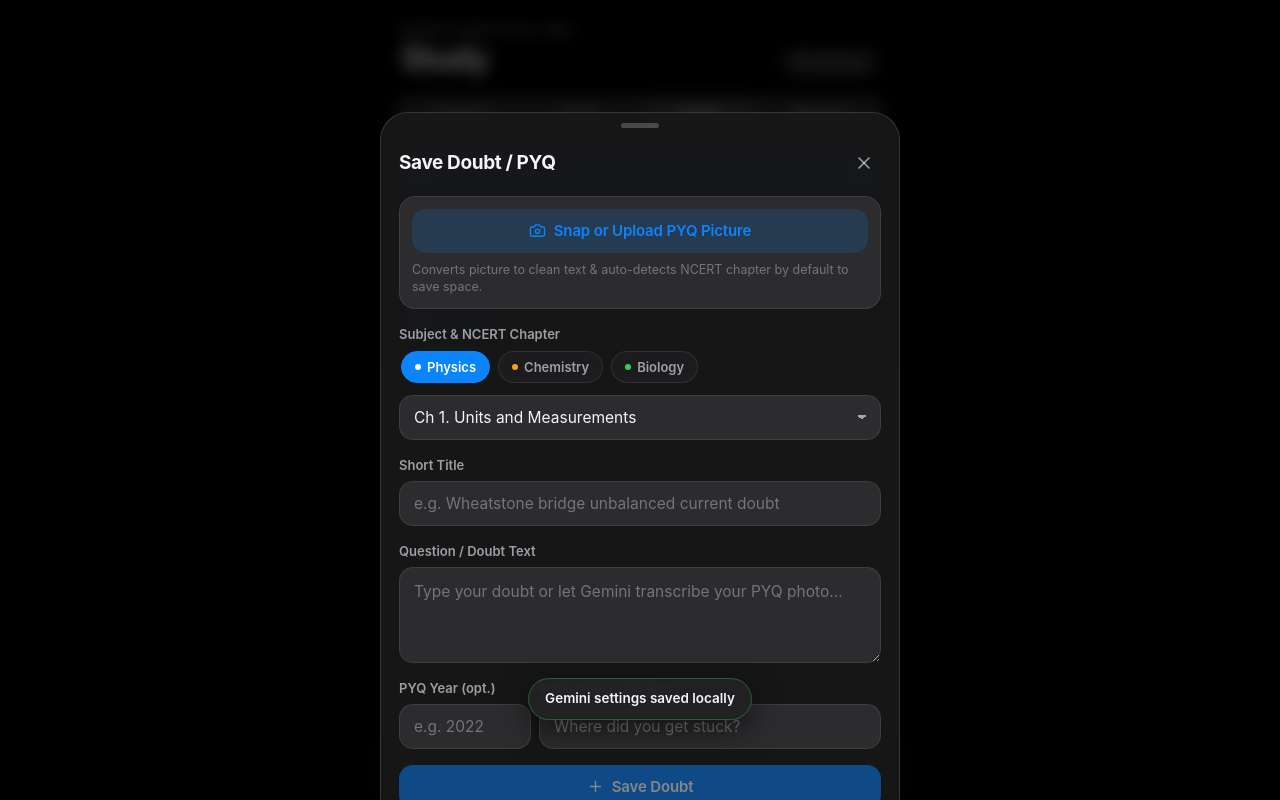
Test case: Study Hub, NCERT Chapters, PYQs & Doubts end-to-end flows › creates, reviews, explains with Gemini, and resolves a doubt in Study -> Doubts
Earlier steps of the test are not shown.
Later steps or results of the test are not shown.
Click the radio button labelled "Chemistry".
click(551, 367)  # box [498,351,603,383]
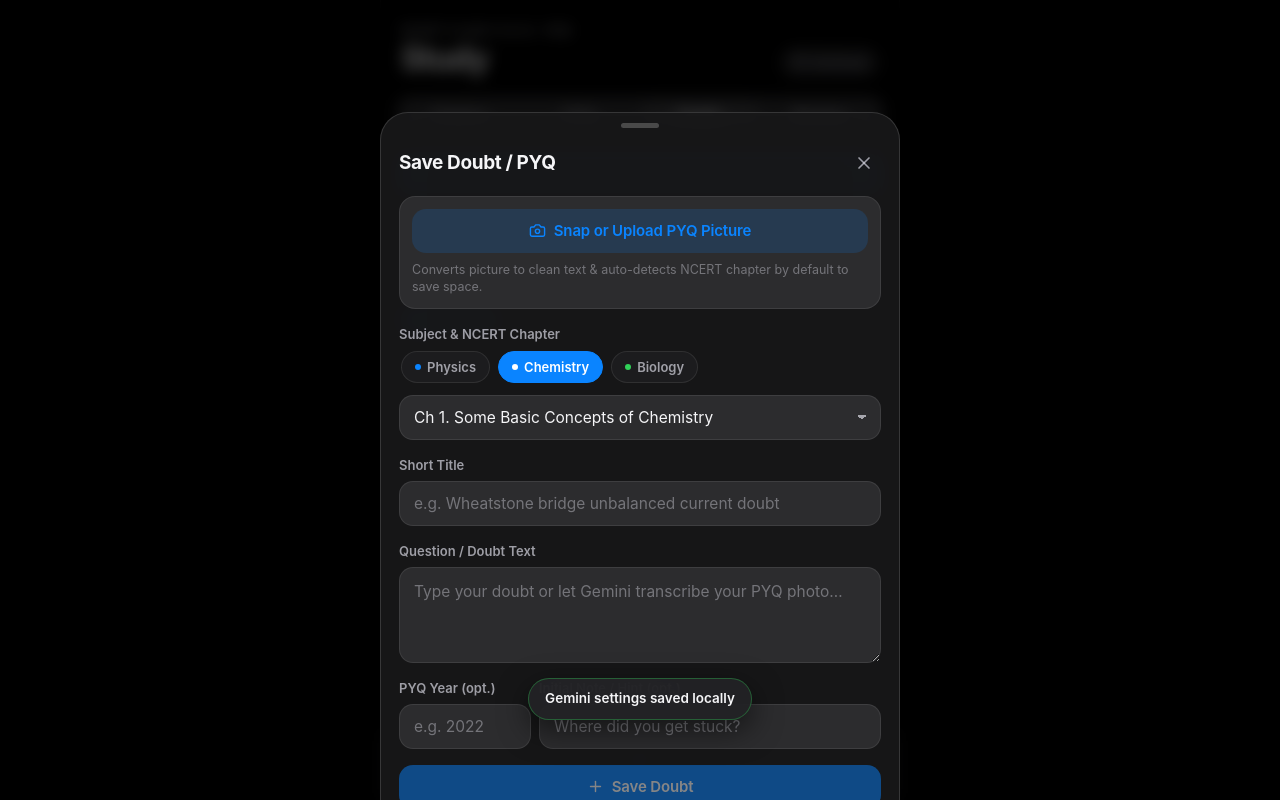
Type "Nernst equation sign doubt" into the field labelled "Short Title".
click(640, 504); type("Nernst equation sign doubt")  # box [399,481,881,526]
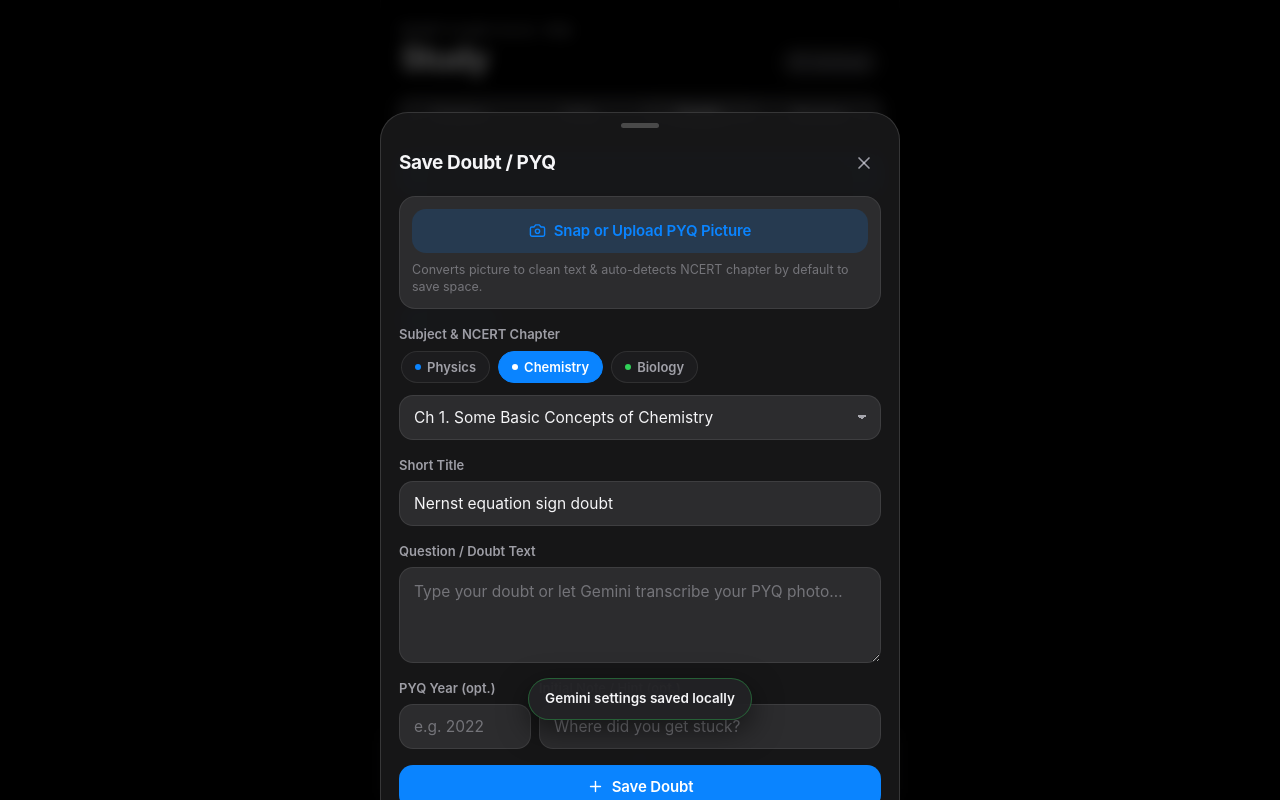
Type "When does E_cell increase with dilution?" into the text box labelled "Question / Doubt Text".
click(640, 615); type("When does E_cell increase with dilution?")  # box [399,567,881,663]
(page scrolled)
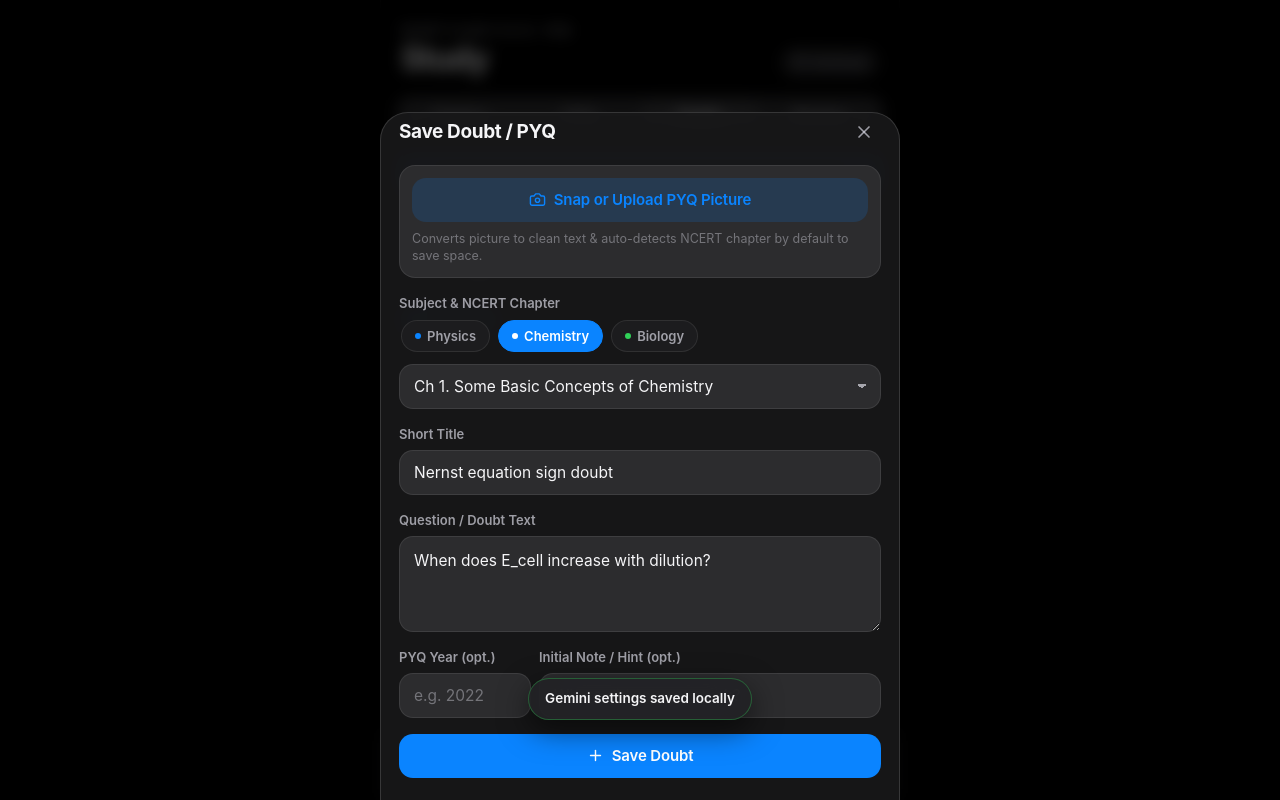
Click the button "Save Doubt".
click(640, 756)  # box [399,734,881,778]
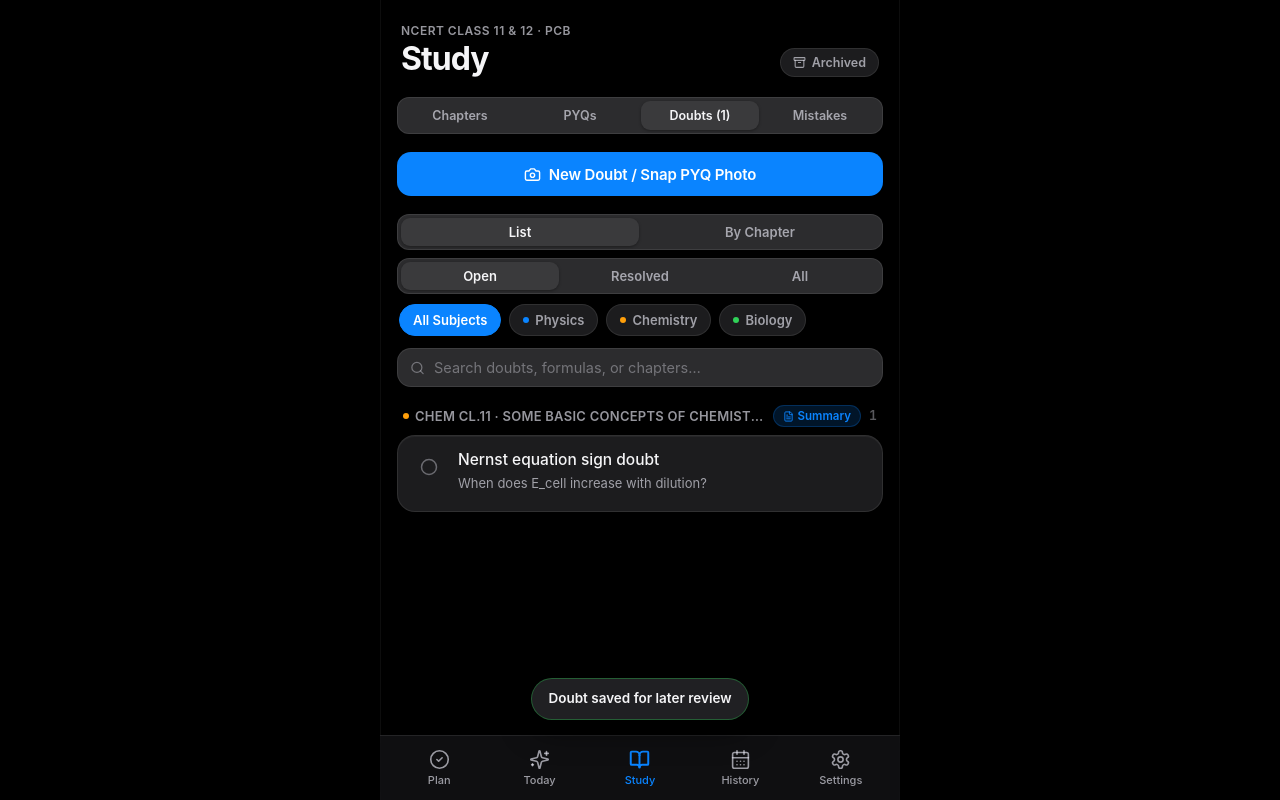
Expected: the text "Nernst equation sign doubt" is shown
Click the text "Nernst equation sign doubt".
click(559, 460)  # box [458,450,659,469]
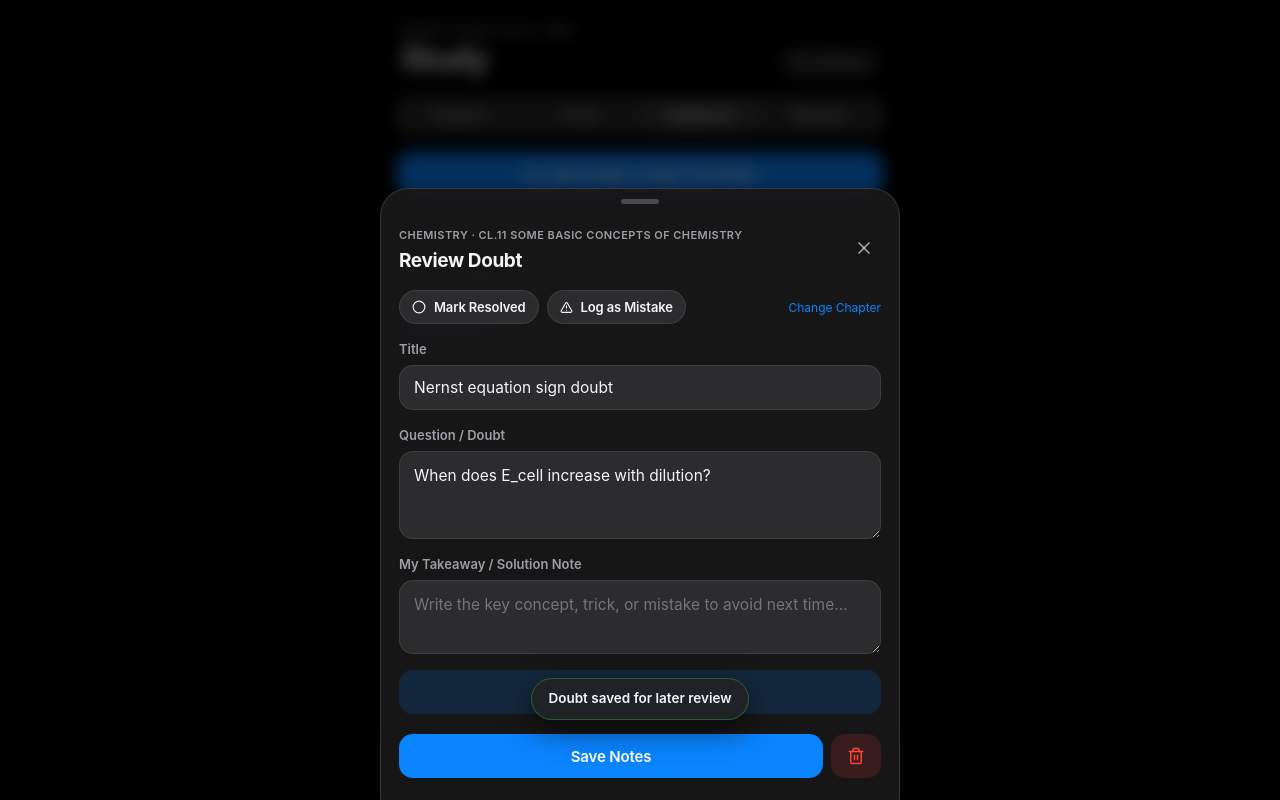
Click the button "Ask Gemini to Explain".
click(640, 692)  # box [399,670,881,714]
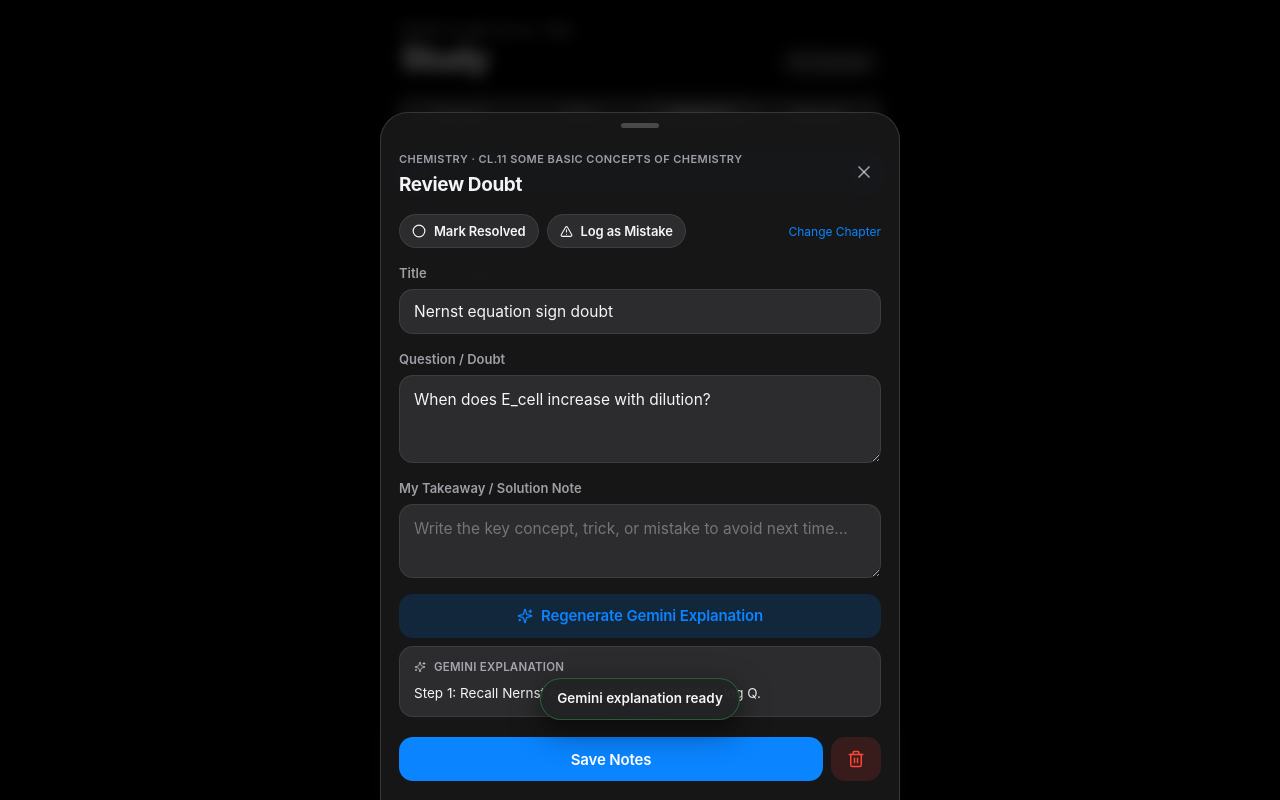
Expected: the text "Step 1: Recall Nernst equation E = E° - (0.059/n) log Q." is shown, [414,685,761,701]
